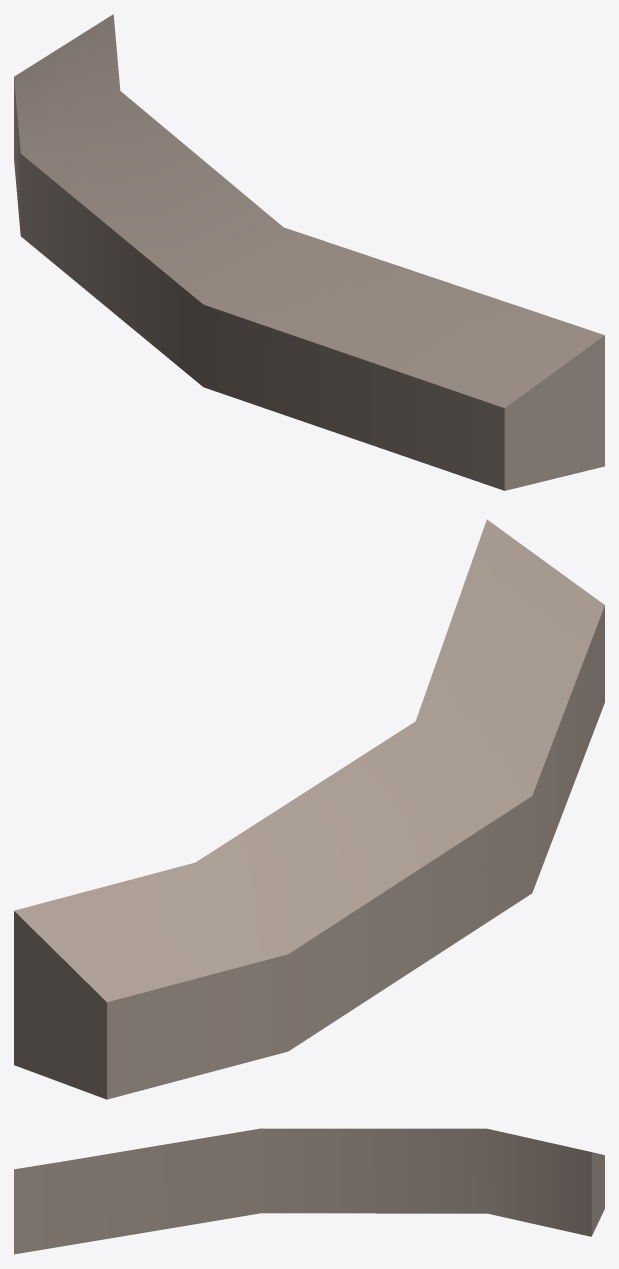
Rendered from Building_Wall_4.fbx.
3 renders of one model, top to bottom at view 1: azimuth 30°, elevation 25°; view 2: azimuth 150°, elevation 25°; view 3: azimuth 270°, elevation 25°, orthographic. The views are drawn at different scales.
Visible parts, largest first — view 1: pCube15; view 2: pCube15; view 3: pCube15.
Boxes of the visible parts, <box> form: pCube15: <box>14,14,604,490</box>; pCube15: <box>14,519,604,1099</box>; pCube15: <box>14,1128,604,1254</box>.
Bounding box in the file's own units: 9.73 × 5.77 × 35.01.
